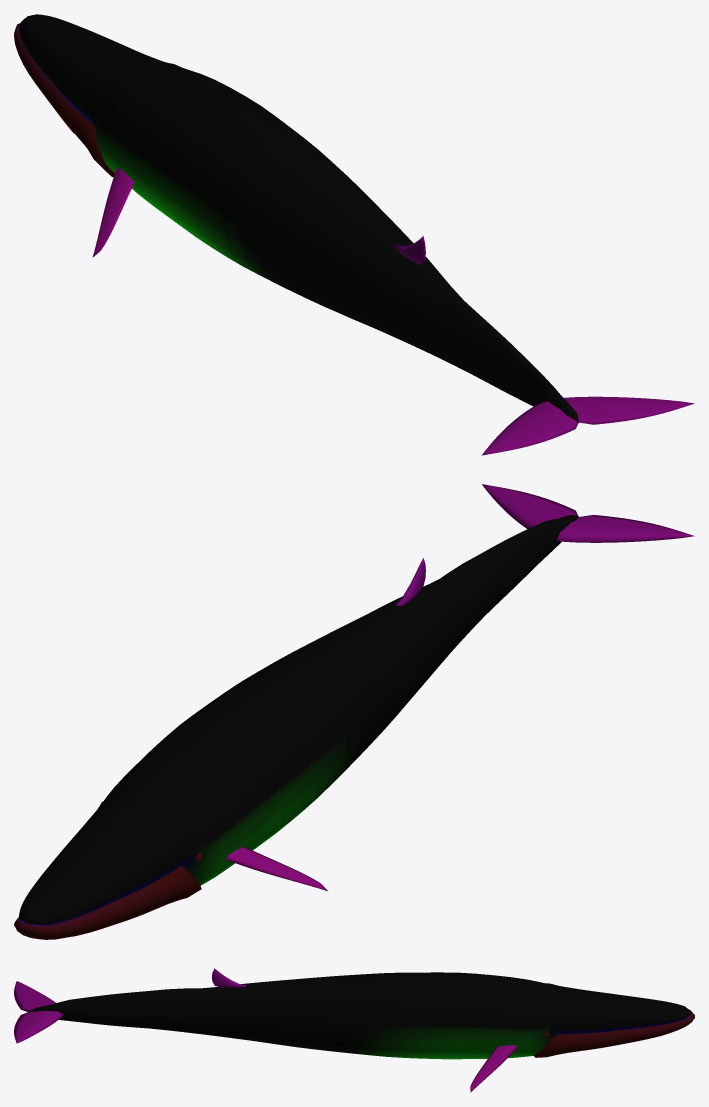
The model's file is fin_whale_lo.glb.
3 views of the same model, one above another, from view 1: azimuth 30°, elevation 25°; view 2: azimuth 150°, elevation 25°; view 3: azimuth 270°, elevation 25° (orthographic). The views are drawn at different scales.
Visible parts, largest first — view 1: fin_whale_lo; view 2: fin_whale_lo; view 3: fin_whale_lo.
Boxes of the visible parts, x1,y1,x2,y2 form: fin_whale_lo: (14,14,694,455); fin_whale_lo: (14,484,694,939); fin_whale_lo: (14,968,694,1092).
Bounding box in the file's own units: 4.87 × 2.94 × 20.22.
